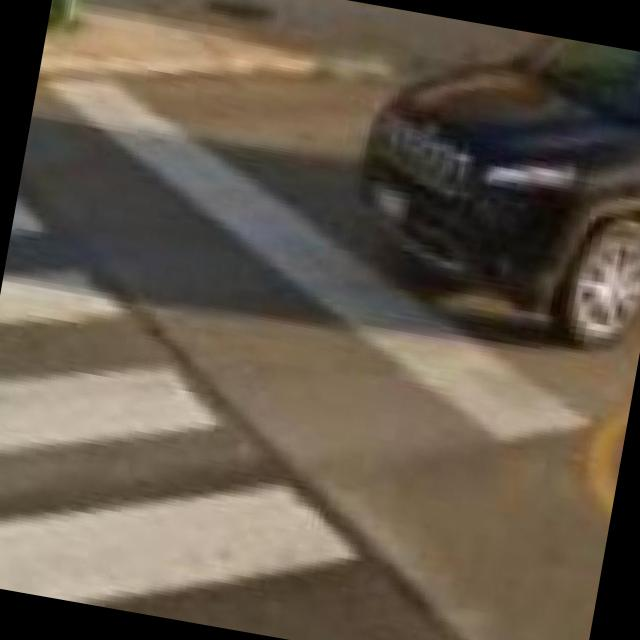zebra: (0, 120, 512, 640)
